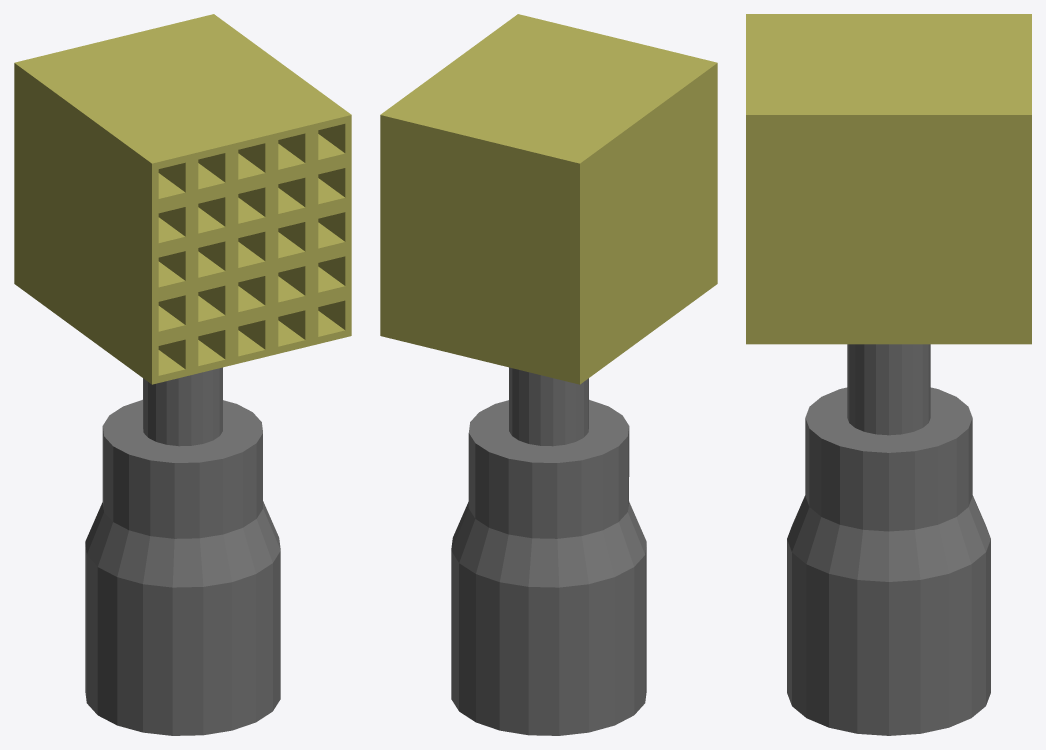
File: Turret2.fbx
3 views of the same model, side by side, from view 1: azimuth 30°, elevation 25°; view 2: azimuth 150°, elevation 25°; view 3: azimuth 270°, elevation 25° (orthographic). The views are drawn at different scales.
Parts seen in each view (by area): view 1: pCube2; view 2: pCube2; view 3: pCube2.
Part boxes in pixels (bbox=[...]): pCube2: bbox=[14, 14, 351, 735]; pCube2: bbox=[380, 14, 717, 735]; pCube2: bbox=[746, 14, 1031, 735].
Bounding box in the file's own units: 1.71 × 4.96 × 2.05.
